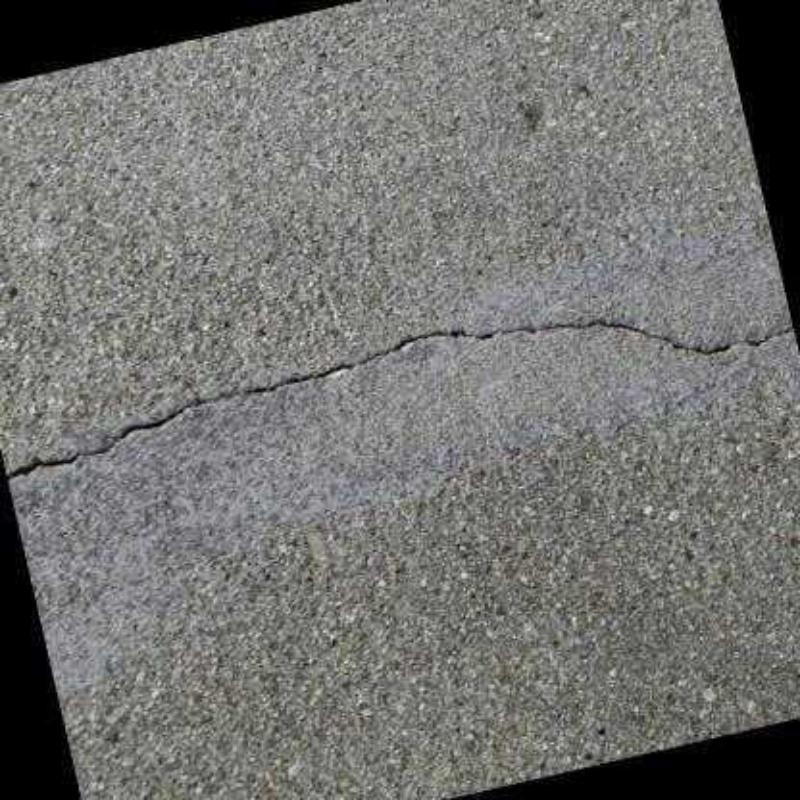crack: (6, 317, 794, 480)
